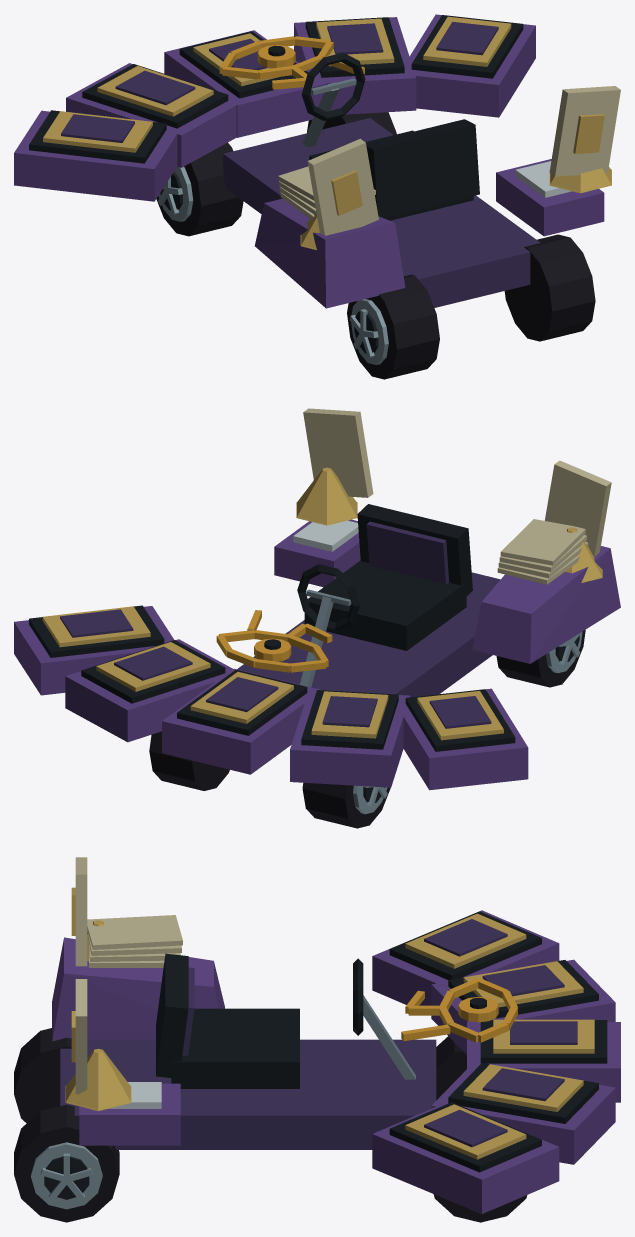
Rendered from kart.glb.
The picture shows the model from 3 angles, top to bottom: view 1: azimuth 30°, elevation 25°; view 2: azimuth 150°, elevation 25°; view 3: azimuth 270°, elevation 25°; orthographic projection. The views are drawn at different scales.
Visible parts, largest first — view 1: identity-hoverboard-duel-disk-half-arc-and-five-card-zones, identity-hoverboard-driver-cockpit, identity-hoverboard-motif-cards, wheel-rear-left, wheel-rear-right, wheel-front-left, identity-hoverboard-motif-eye-sigil, identity-hoverboard-motif-gems, wheel-front-right; view 2: identity-hoverboard-duel-disk-half-arc-and-five-card-zones, identity-hoverboard-driver-cockpit, identity-hoverboard-motif-cards, identity-hoverboard-motif-eye-sigil, identity-hoverboard-motif-gems, wheel-front-left, wheel-rear-left, wheel-front-right; view 3: identity-hoverboard-duel-disk-half-arc-and-five-card-zones, identity-hoverboard-driver-cockpit, wheel-rear-right, identity-hoverboard-motif-eye-sigil, wheel-rear-left, identity-hoverboard-motif-cards, identity-hoverboard-motif-gems, wheel-front-left, wheel-front-right.
Part boxes in pixels (box(x1,y1,x2,y2)): identity-hoverboard-duel-disk-half-arc-and-five-card-zones: box(14, 14, 604, 308); identity-hoverboard-driver-cockpit: box(301, 52, 479, 220); identity-hoverboard-motif-cards: box(307, 86, 620, 235); wheel-rear-left: box(347, 274, 439, 379); wheel-rear-right: box(504, 234, 595, 341); wheel-front-left: box(156, 142, 243, 236); identity-hoverboard-motif-eye-sigil: box(219, 36, 364, 89); identity-hoverboard-motif-gems: box(300, 167, 611, 249); wheel-front-right: box(307, 112, 396, 134); identity-hoverboard-duel-disk-half-arc-and-five-card-zones: box(14, 519, 620, 790); identity-hoverboard-driver-cockpit: box(297, 504, 472, 687); identity-hoverboard-motif-cards: box(303, 408, 611, 557); identity-hoverboard-motif-eye-sigil: box(216, 610, 332, 672); identity-hoverboard-motif-gems: box(296, 467, 602, 582); wheel-front-left: box(302, 782, 390, 828); wheel-rear-left: box(496, 630, 585, 687); wheel-front-right: box(149, 731, 229, 790); identity-hoverboard-duel-disk-half-arc-and-five-card-zones: box(52, 910, 620, 1213); identity-hoverboard-driver-cockpit: box(156, 953, 415, 1088); wheel-rear-right: box(14, 1104, 119, 1222); identity-hoverboard-motif-eye-sigil: box(401, 978, 517, 1042); wheel-rear-left: box(14, 1028, 71, 1123); identity-hoverboard-motif-cards: box(71, 857, 87, 1094); identity-hoverboard-motif-gems: box(65, 920, 131, 1111); wheel-front-left: box(436, 1036, 466, 1100); wheel-front-right: box(433, 1194, 527, 1222).
Size of the model in its own units: 3.02 by 1.28 by 2.88.
